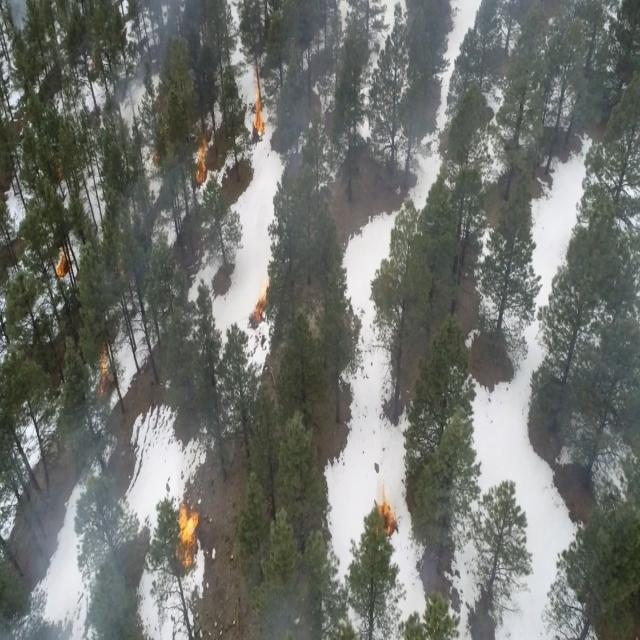Fire: (178, 505, 202, 571), (373, 498, 398, 544), (94, 353, 116, 401), (250, 90, 268, 142), (194, 145, 210, 183), (250, 295, 270, 325), (56, 256, 70, 276)
